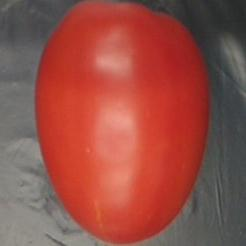unripe: (28, 0, 213, 246)
